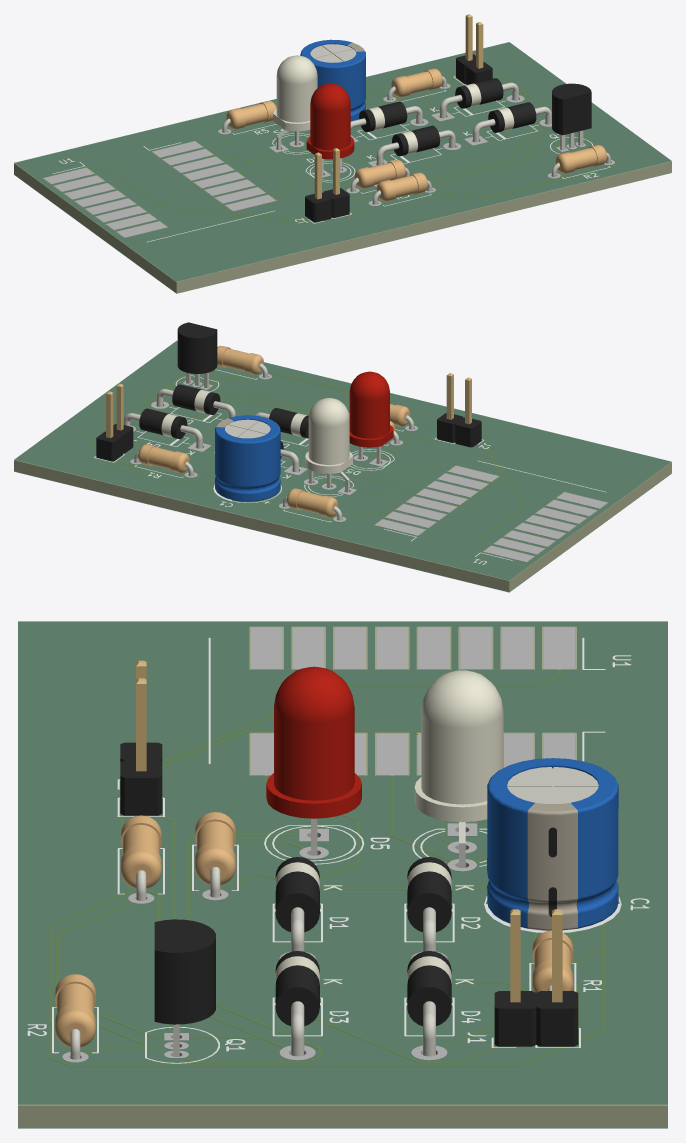
Rendered from MasAR_Circuit2_3D.glb.
3 views of the same model, one above another, from view 1: azimuth 30°, elevation 25°; view 2: azimuth 150°, elevation 25°; view 3: azimuth 270°, elevation 25° (orthographic). The views are drawn at different scales.
Parts seen in each view (by area): view 1: =>[0:1:1:21], =>[0:1:1:19], =>[0:1:1:17], =>[0:1:1:9] (×4), =>[0:1:1:5] (×5), =>[0:1:1:7] (×2), =>[0:1:1:15], =>[0:1:1:11], =>[0:1:1:13], =>[0:1:1:3], =>[0:1:1:18], =>[0:1:1:16] (+1 smaller); view 2: =>[0:1:1:21], =>[0:1:1:19], =>[0:1:1:17], =>[0:1:1:15], =>[0:1:1:9] (×3), =>[0:1:1:5] (×4), =>[0:1:1:7] (×2), =>[0:1:1:13], =>[0:1:1:11], =>[0:1:1:3], =>[0:1:1:18], =>[0:1:1:16] (+1 smaller); view 3: =>[0:1:1:19], =>[0:1:1:21], =>[0:1:1:15], =>[0:1:1:17], =>[0:1:1:9] (×4), =>[0:1:1:11], =>[0:1:1:13], =>[0:1:1:7] (×2), =>[0:1:1:5] (×4), =>[0:1:1:3], =>[0:1:1:18], =>[0:1:1:16].
Boxes of the visible parts, left/top/right/bottom form: =>[0:1:1:21]: left=14, top=43, right=671, bottom=293; =>[0:1:1:19]: left=14, top=42, right=671, bottom=281; =>[0:1:1:17]: left=43, top=83, right=614, bottom=237; =>[0:1:1:9] (×4): left=350, top=78, right=551, bottom=165; =>[0:1:1:5] (×5): left=222, top=68, right=610, bottom=204; =>[0:1:1:7] (×2): left=305, top=14, right=492, bottom=222; =>[0:1:1:15]: left=300, top=39, right=365, bottom=121; =>[0:1:1:11]: left=306, top=83, right=354, bottom=175; =>[0:1:1:13]: left=273, top=55, right=317, bottom=149; =>[0:1:1:3]: left=552, top=83, right=591, bottom=150; =>[0:1:1:18]: left=52, top=76, right=610, bottom=242; =>[0:1:1:16]: left=90, top=73, right=618, bottom=223; =>[0:1:1:21]: left=14, top=342, right=671, bottom=592; =>[0:1:1:19]: left=14, top=340, right=671, bottom=580; =>[0:1:1:17]: left=130, top=374, right=606, bottom=562; =>[0:1:1:15]: left=215, top=415, right=280, bottom=501; =>[0:1:1:9] (×3): left=124, top=384, right=308, bottom=448; =>[0:1:1:5] (×4): left=134, top=345, right=413, bottom=520; =>[0:1:1:7] (×2): left=96, top=373, right=481, bottom=461; =>[0:1:1:13]: left=305, top=398, right=352, bottom=492; =>[0:1:1:11]: left=349, top=371, right=393, bottom=463; =>[0:1:1:3]: left=177, top=322, right=217, bottom=387; =>[0:1:1:18]: left=94, top=369, right=606, bottom=564; =>[0:1:1:16]: left=91, top=370, right=524, bottom=549; =>[0:1:1:19]: left=18, top=621, right=667, bottom=1104; =>[0:1:1:21]: left=18, top=622, right=667, bottom=1127; =>[0:1:1:15]: left=487, top=758, right=618, bottom=930; =>[0:1:1:17]: left=62, top=627, right=574, bottom=1062; =>[0:1:1:9] (×4): left=275, top=857, right=451, bottom=1056; =>[0:1:1:11]: left=266, top=666, right=361, bottom=855; =>[0:1:1:13]: left=414, top=670, right=503, bottom=867; =>[0:1:1:7] (×2): left=120, top=660, right=578, bottom=1046; =>[0:1:1:5] (×4): left=55, top=812, right=573, bottom=1059; =>[0:1:1:3]: left=154, top=919, right=215, bottom=1056; =>[0:1:1:18]: left=27, top=637, right=649, bottom=1063; =>[0:1:1:16]: left=50, top=669, right=604, bottom=1065.
Size of the model in its own units: 0.0695 by 0.0146 by 0.0395.
